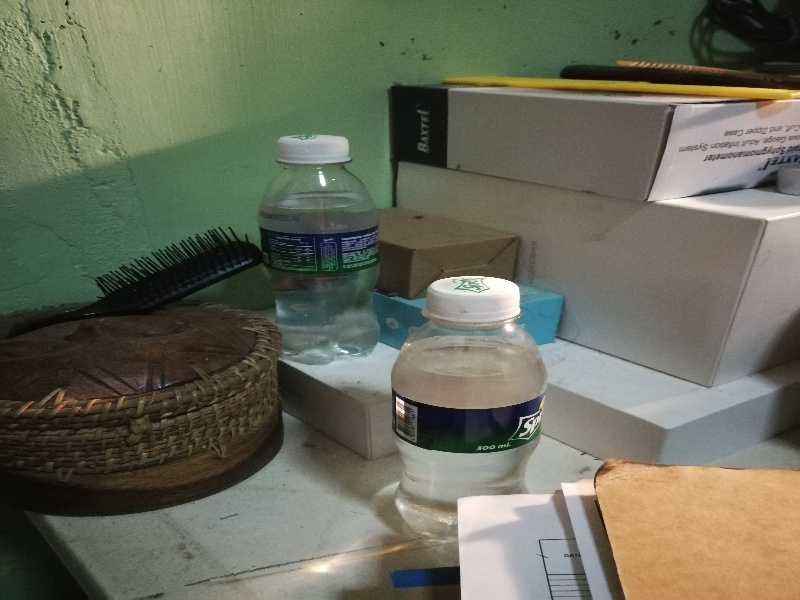PET #1: (384, 272, 549, 551), (255, 132, 393, 371)
